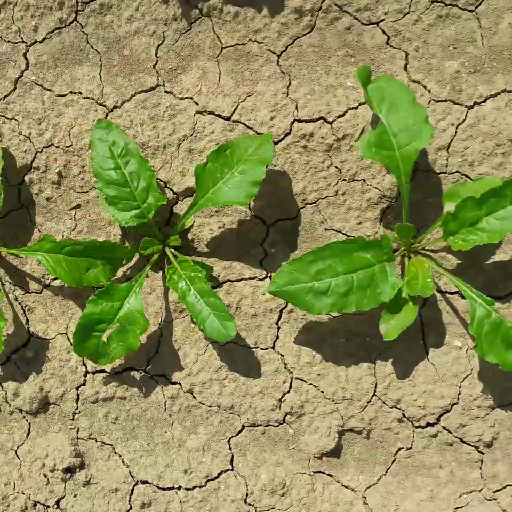sugarbeet: (261, 60, 510, 376), (73, 113, 277, 369)
